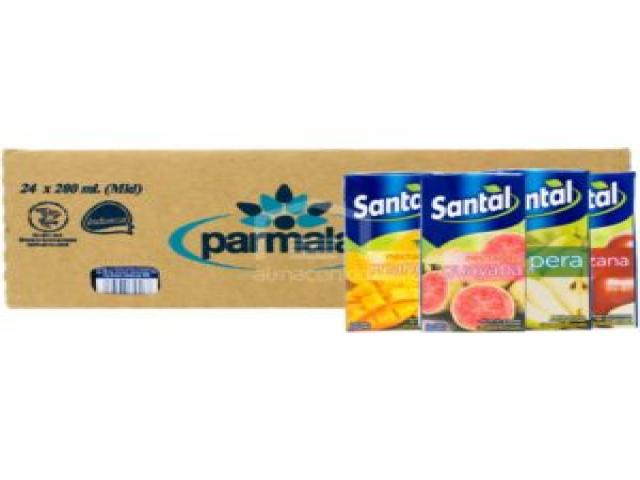drink_box: (423, 164, 528, 337), (519, 165, 599, 345), (342, 166, 425, 328), (594, 171, 638, 330)
